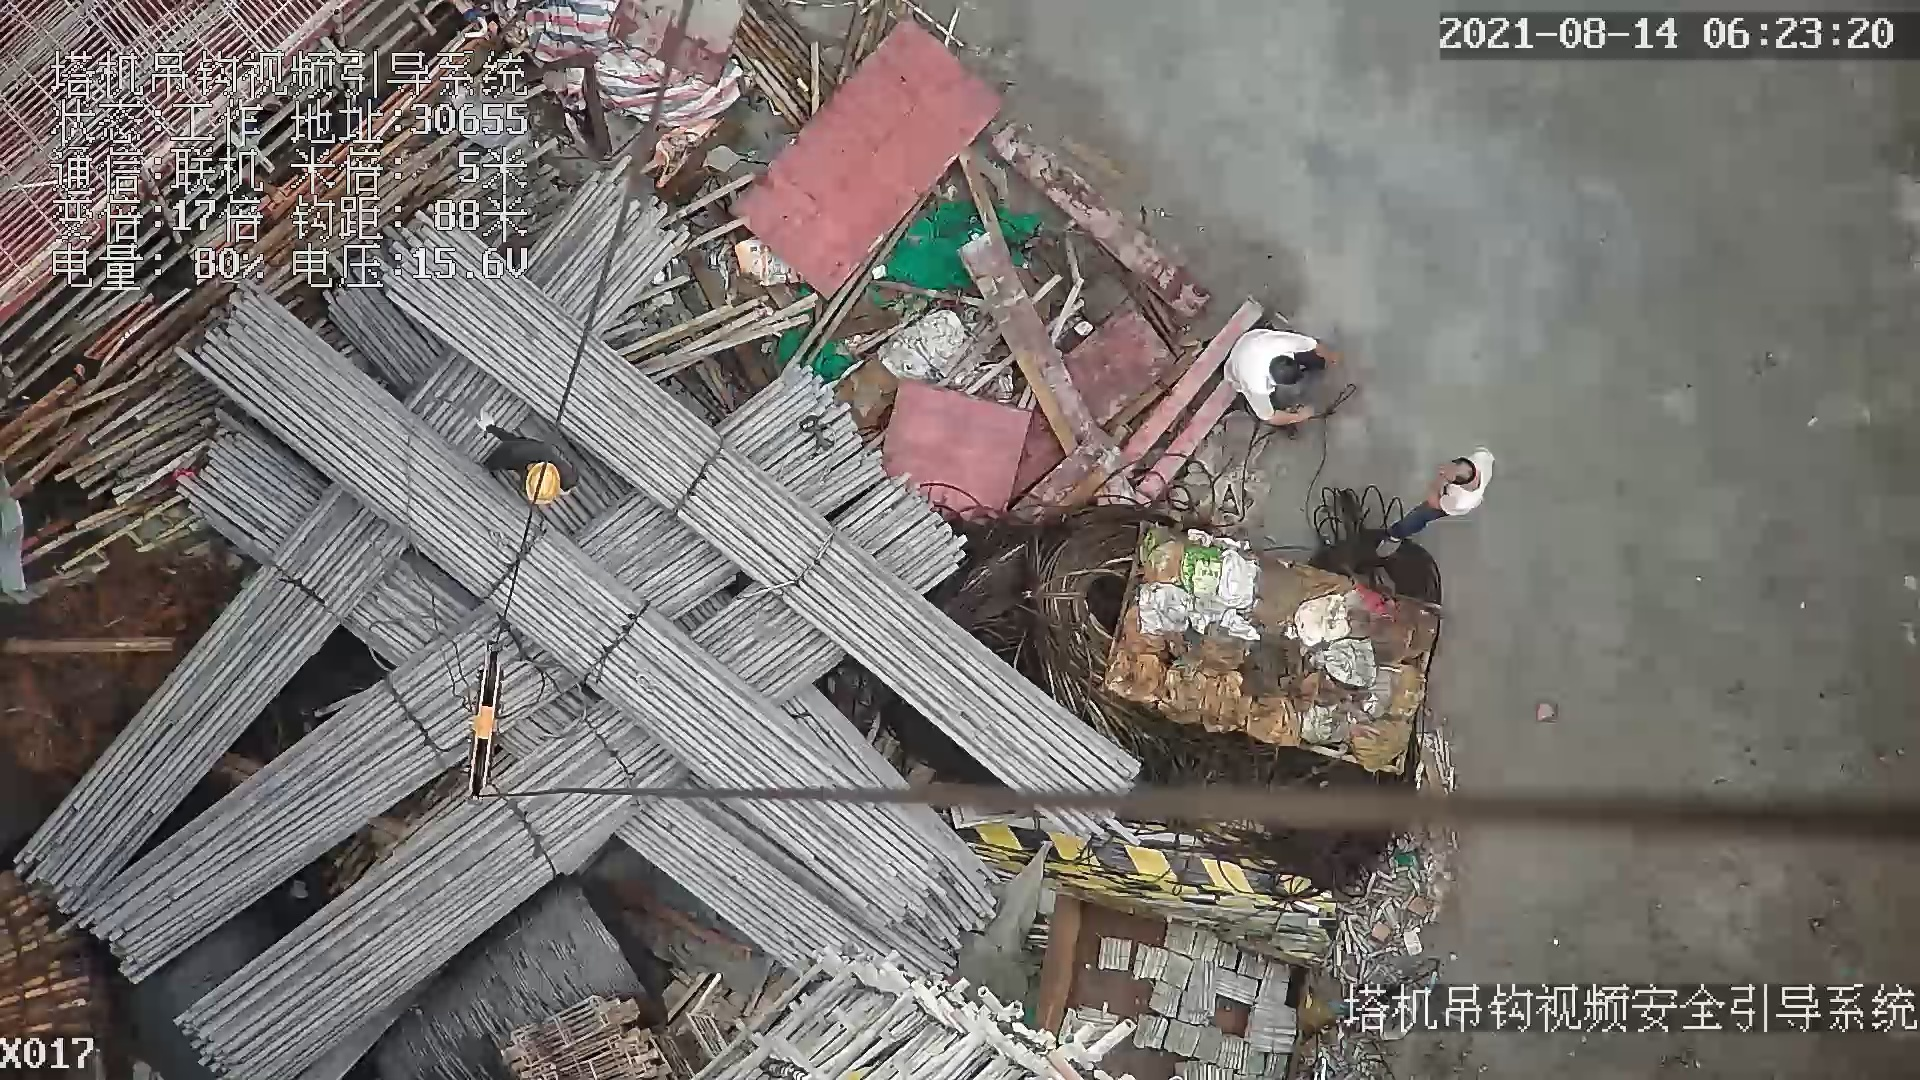board: (725, 19, 1012, 302)
helmet: (526, 458, 560, 501)
hook: (459, 641, 505, 806)
person: (1378, 428, 1497, 559), (1220, 319, 1344, 431), (469, 401, 585, 506)
